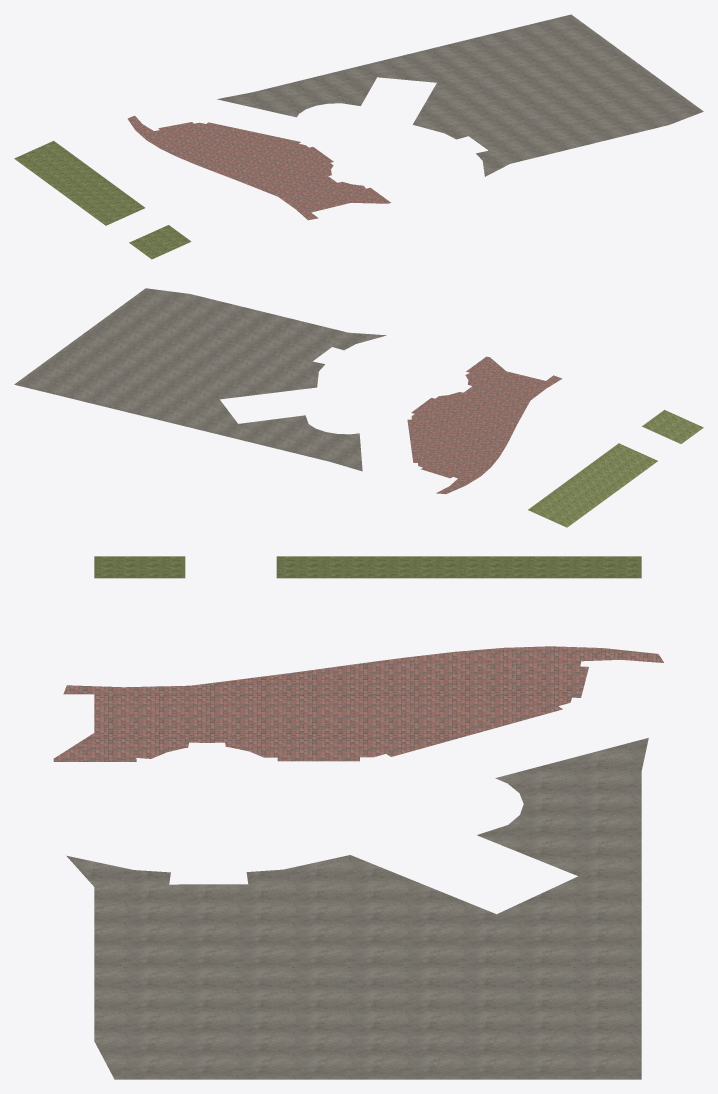
File: vgssairportland16.obj
3 renders of one model, top to bottom at view 1: azimuth 30°, elevation 25°; view 2: azimuth 150°, elevation 25°; view 3: azimuth 270°, elevation 25°, orthographic. The views are drawn at different scales.
Visible parts, largest first — view 1: vgsSairportland16; view 2: vgsSairportland16; view 3: vgsSairportland16.
Part boxes in pixels (bbox=[...]): vgsSairportland16: bbox=[14, 14, 703, 259]; vgsSairportland16: bbox=[14, 288, 703, 527]; vgsSairportland16: bbox=[53, 556, 663, 1079].
Bounding box in the file's own units: 280 × 4.03 × 134.
3 materials, 3 textured.
